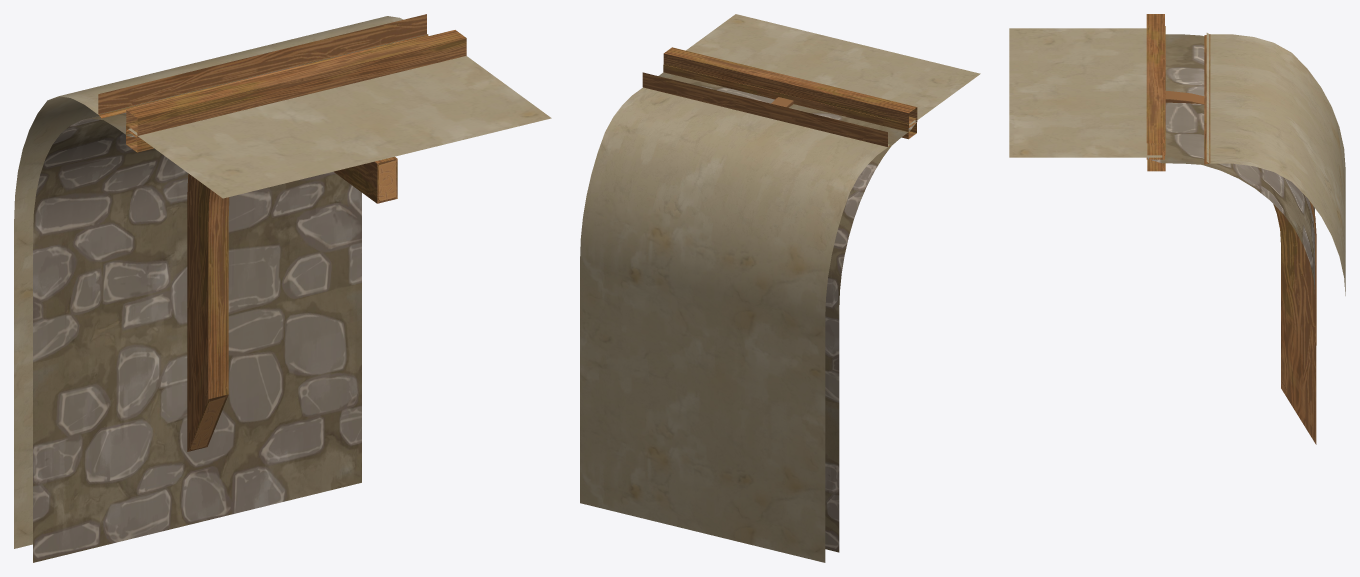
Rendered from Overhang_UnevenBrick_Long.gltf.
3 views of the same model, side by side, from view 1: azimuth 30°, elevation 25°; view 2: azimuth 150°, elevation 25°; view 3: azimuth 270°, elevation 25° (orthographic). The views are drawn at different scales.
Parts seen in each view (by area): view 1: Overhang_UnevenBrick_Long; view 2: Overhang_UnevenBrick_Long; view 3: Overhang_UnevenBrick_Long.
Part boxes in pixels (x1,y1,x2,y2): Overhang_UnevenBrick_Long: (14,14,551,562); Overhang_UnevenBrick_Long: (580,14,980,562); Overhang_UnevenBrick_Long: (1009,14,1345,444).
Size of the model in its own units: 2 by 3.03 by 2.2.
3 materials, 3 textured.
